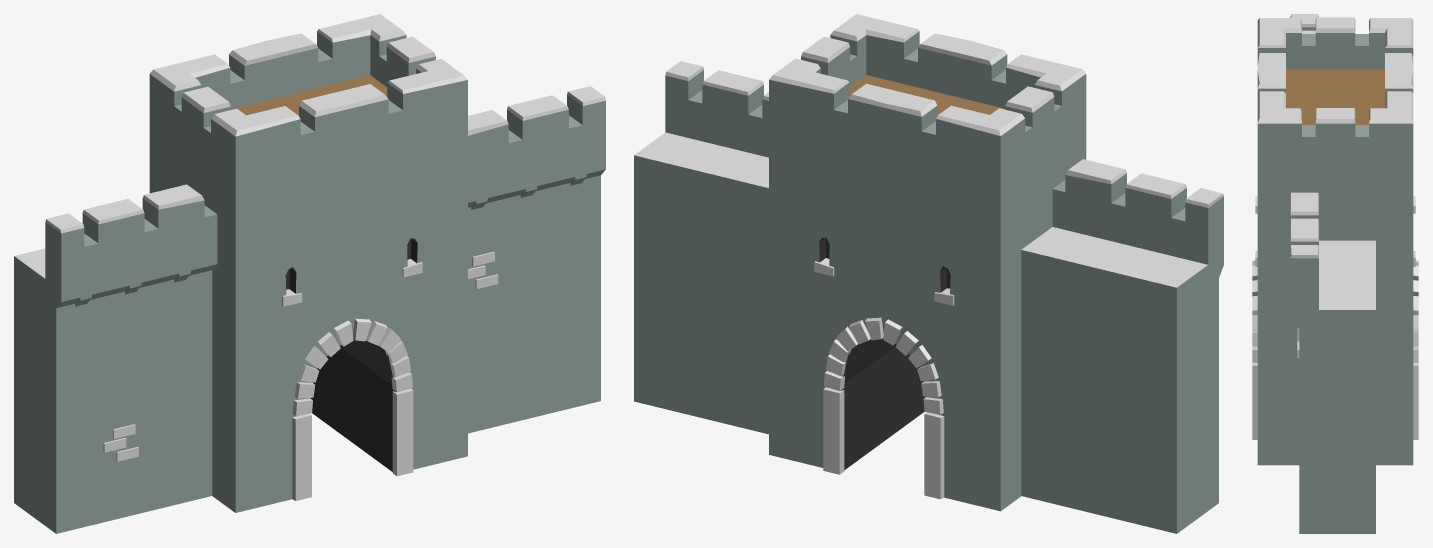
Rendered from castle-gate_change.fbx.
3 views of the same model, side by side, from view 1: azimuth 30°, elevation 25°; view 2: azimuth 150°, elevation 25°; view 3: azimuth 270°, elevation 25° (orthographic). The views are drawn at different scales.
Visible parts, largest first — view 1: castle-gate_small; view 2: castle-gate_small; view 3: castle-gate_small.
Part boxes in pixels (x1,y1,x2,y2): castle-gate_small: (14,14,605,533); castle-gate_small: (634,14,1223,533); castle-gate_small: (1252,14,1418,533).
Bounding box in the file's own units: 1500 × 1002 × 437.
